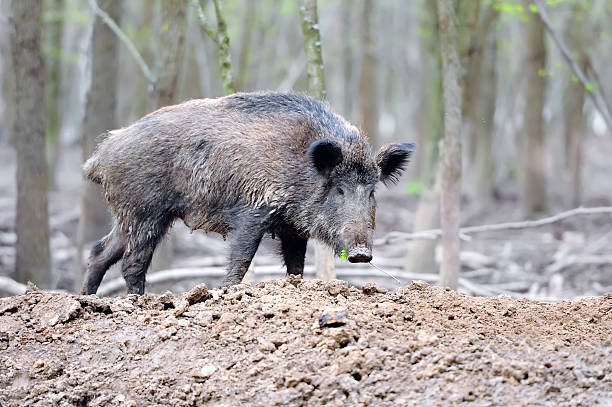pig: (43, 96, 409, 273)
